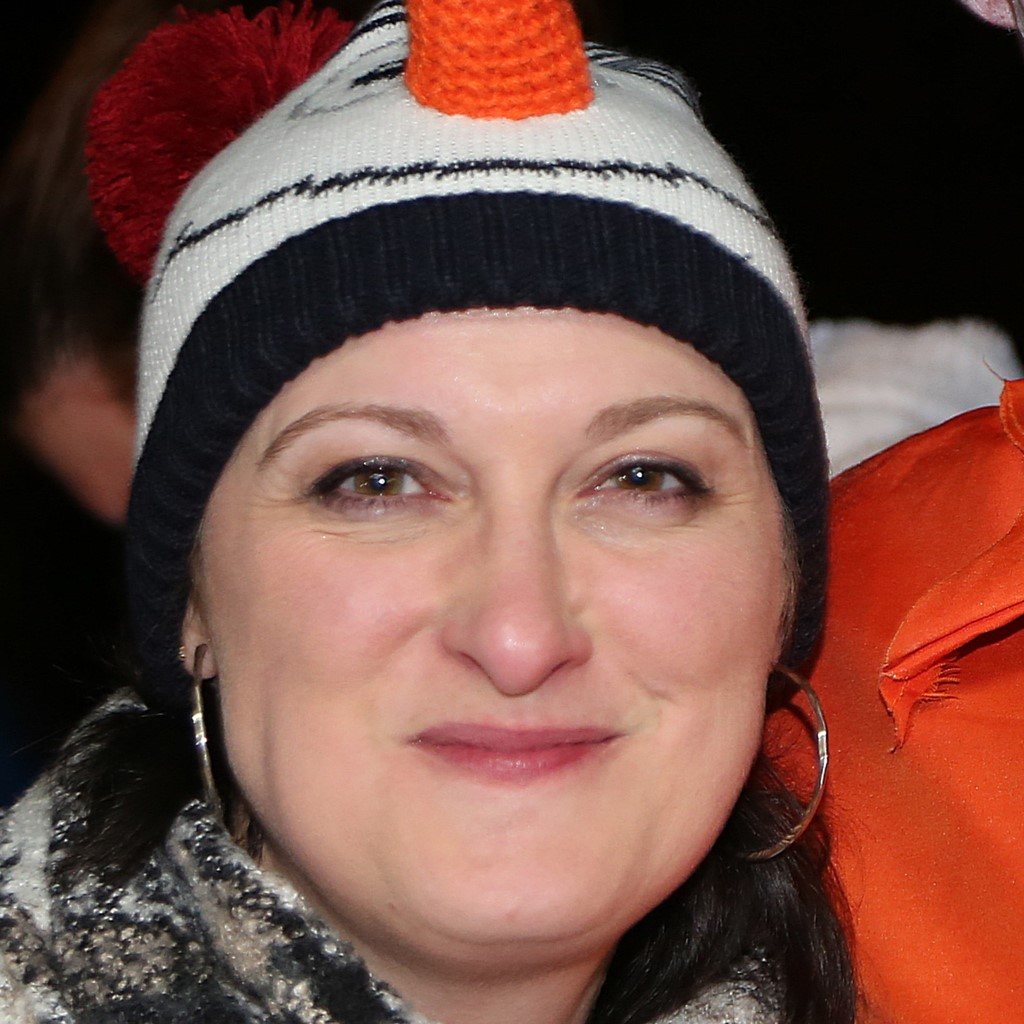sin_mascara: (148, 93, 797, 977)
